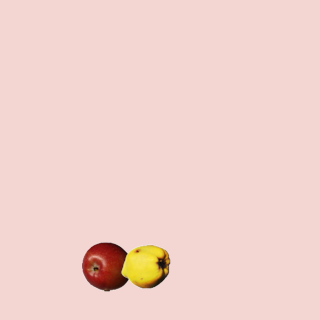Apple Braeburn: (81, 241, 131, 291)
Quince: (120, 241, 170, 291)
